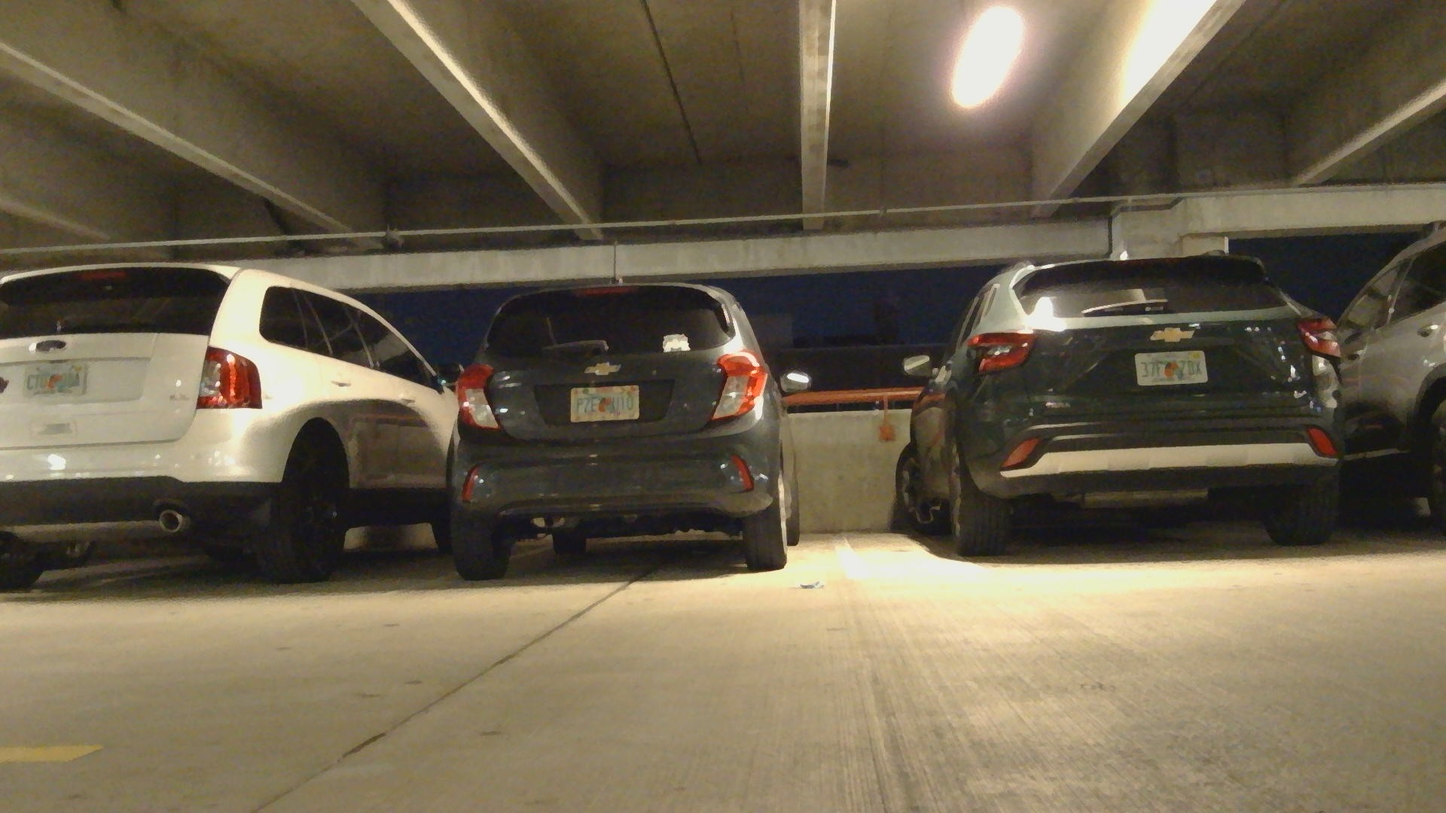occupied_spot: (879, 247, 1356, 581), (1, 261, 460, 591), (457, 284, 808, 574)
